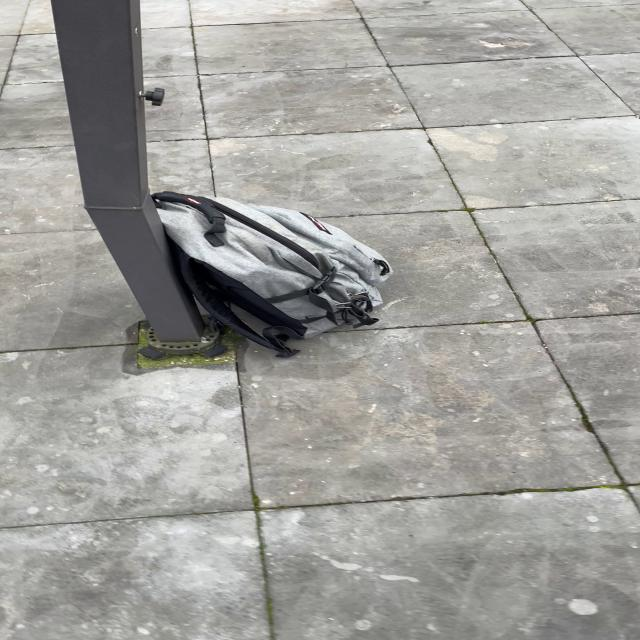backpack: (147, 188, 400, 362)
